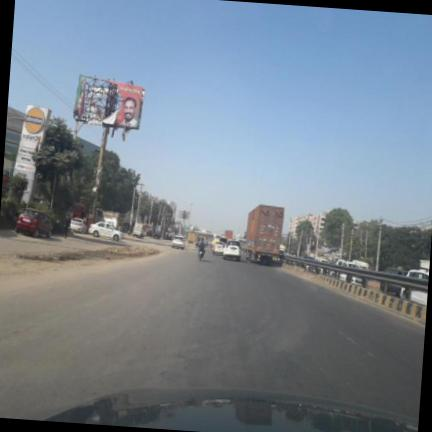Road: (0, 250, 424, 419)
